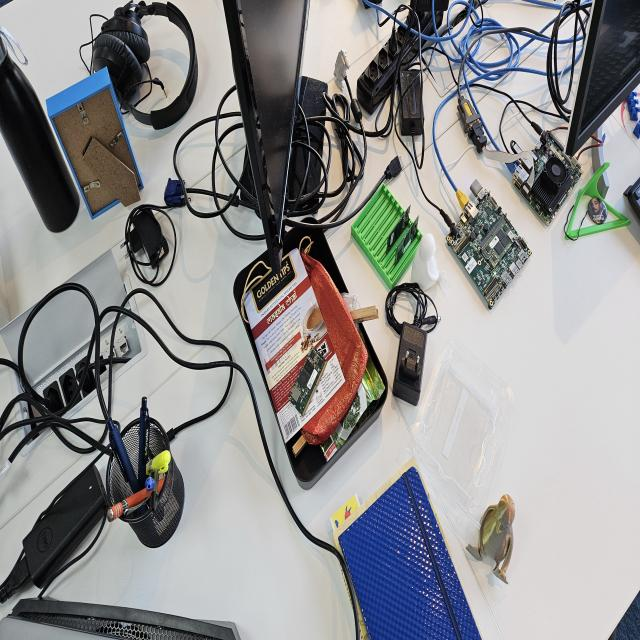som: (476, 222, 518, 272), (384, 204, 416, 254), (395, 216, 425, 263)
